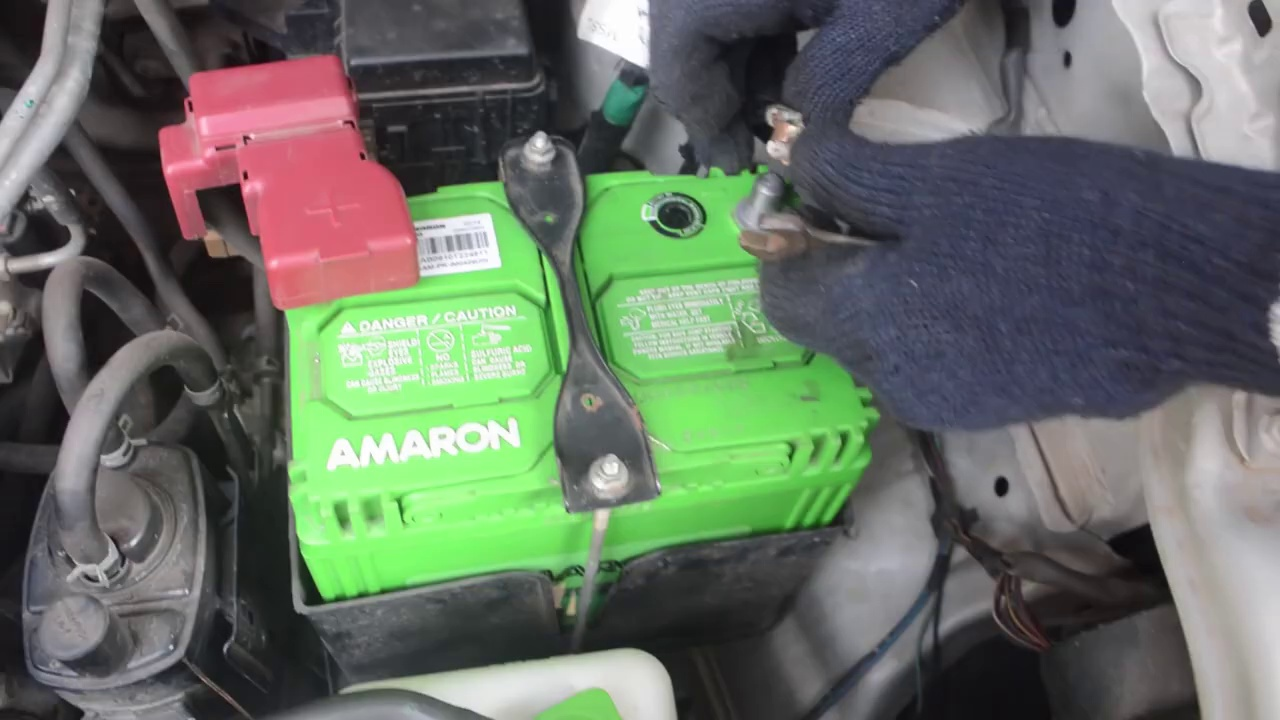battery: (257, 158, 874, 539)
neg_disconnected: (696, 136, 833, 269)
neg_touched: (661, 31, 903, 332)
pos_connected: (165, 55, 445, 307)
